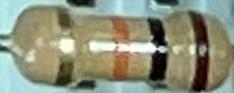Black: (151, 18, 168, 81)
Brown: (188, 13, 208, 93)
Orange: (112, 18, 129, 78)
Side-Gold: (58, 12, 73, 85)
